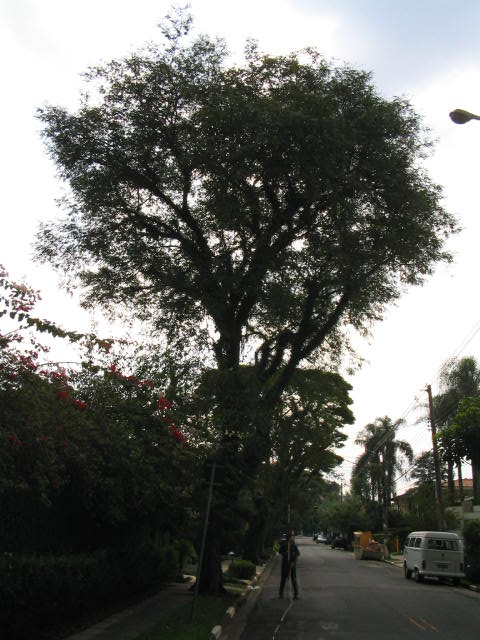crown: (36, 2, 462, 397)
stem: (181, 468, 241, 593)
stick: (281, 483, 297, 606)
tree: (33, 1, 462, 596)
